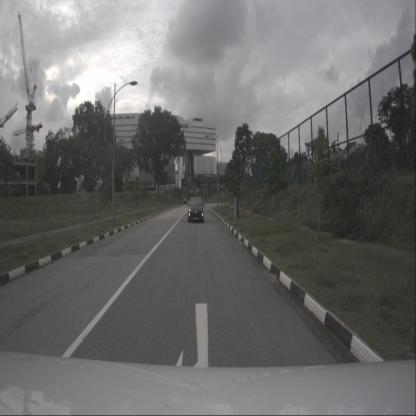vehicle-car: (188, 197, 204, 223)
